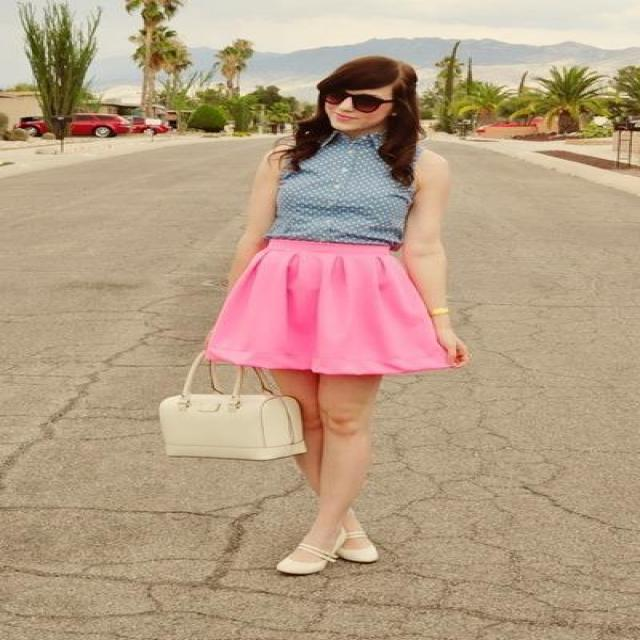bag: (158, 382, 304, 459)
shirt: (267, 122, 419, 250)
shoe: (274, 528, 378, 583)
skirt: (195, 239, 440, 373)
